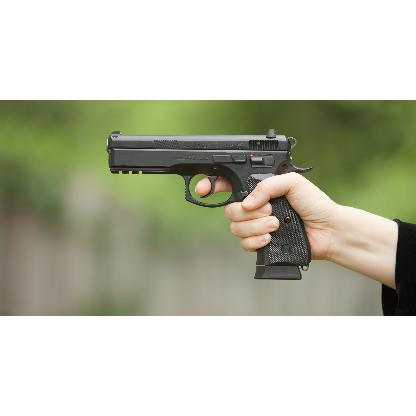gun: (107, 127, 311, 283)
